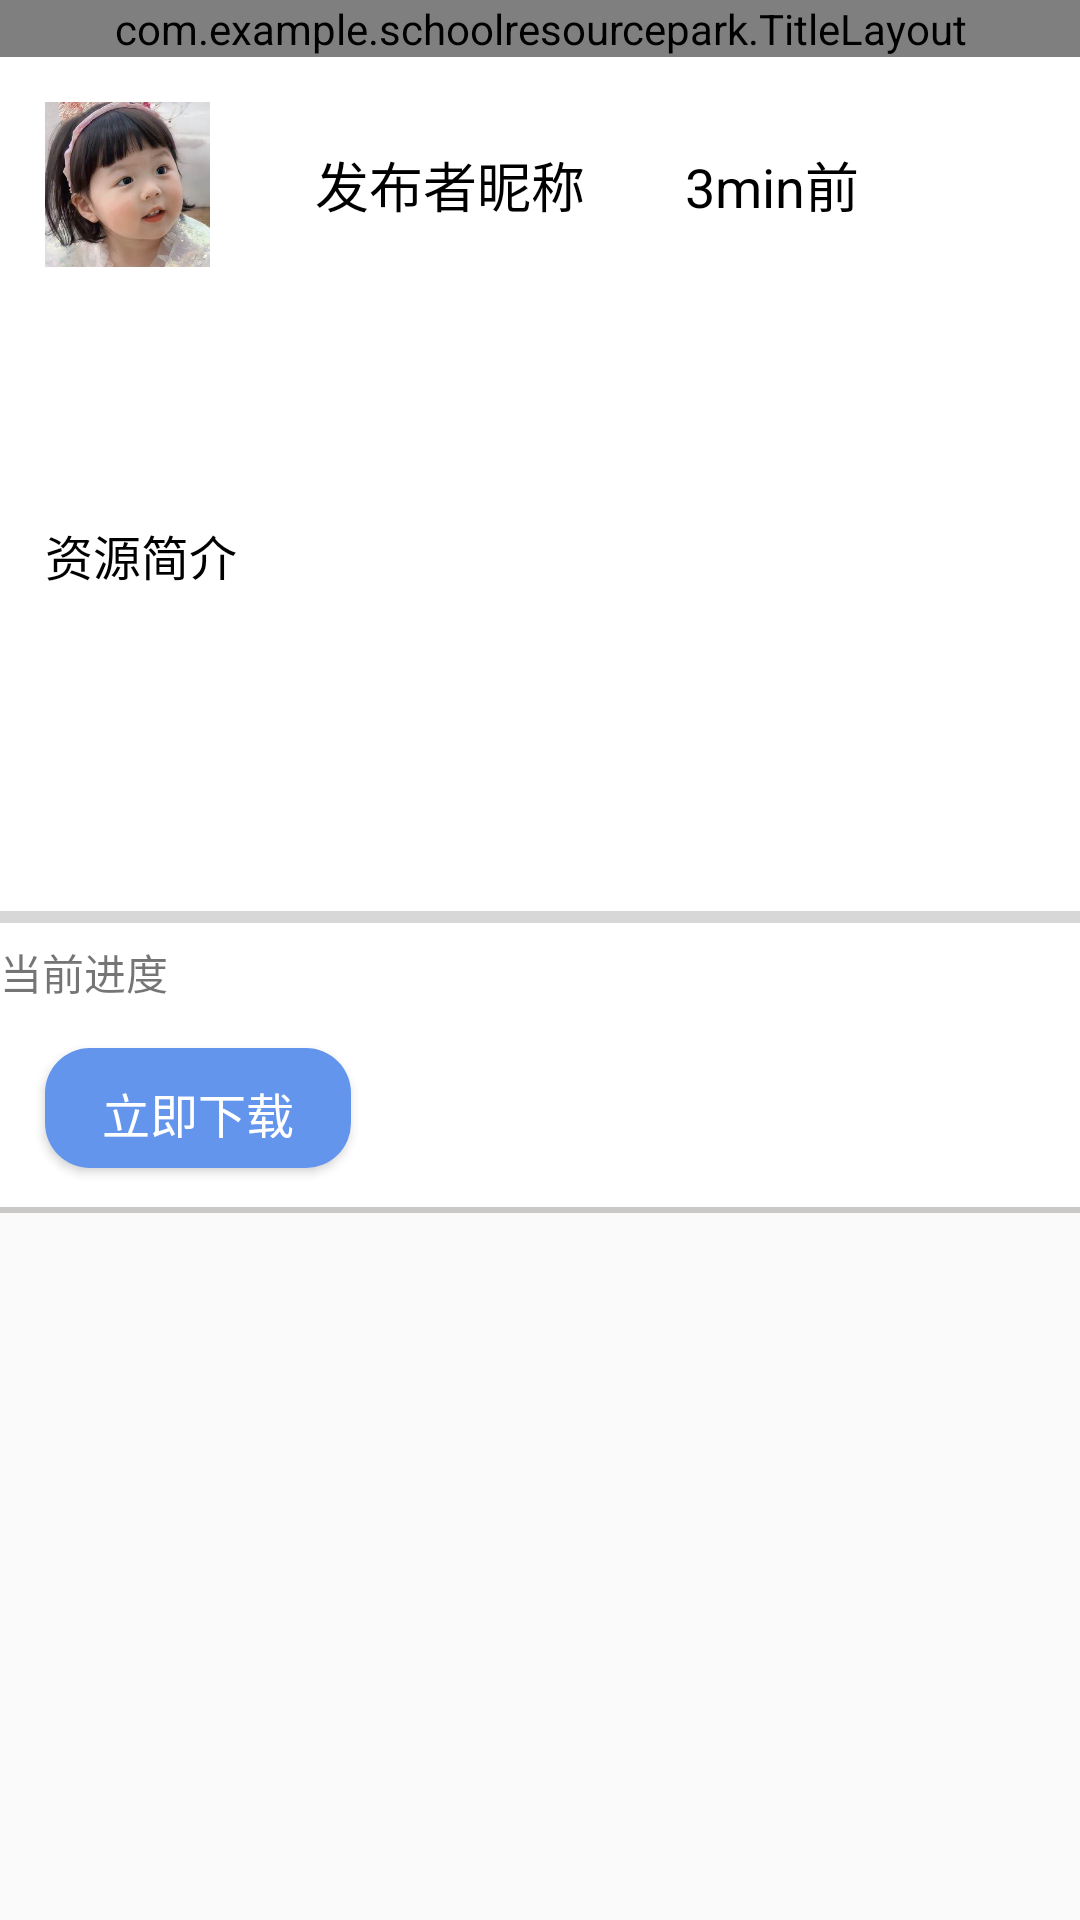

Where icons sit on this 1080px x 1920px app screen, as (x1, y1, x2, y2):
head: (45, 102, 210, 267)
